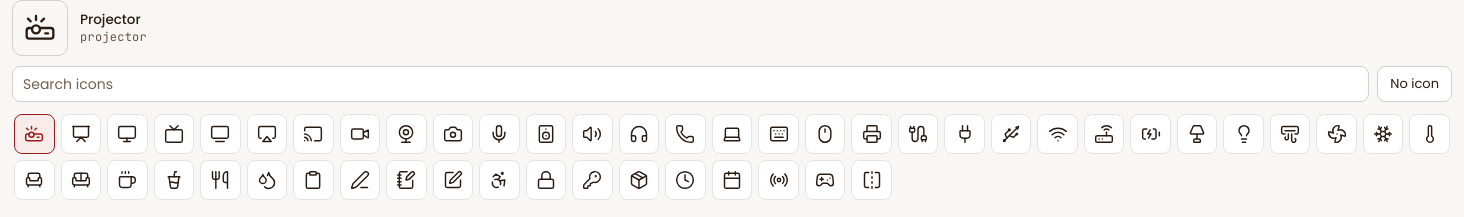
IconPicker › says when no icon matches the search, and keeps the choice
The width and height of the screenshot is (1464, 217).
Type "zzz" into the search field with placeholder "Search icons" at (691, 84), box [12,66,1369,102]
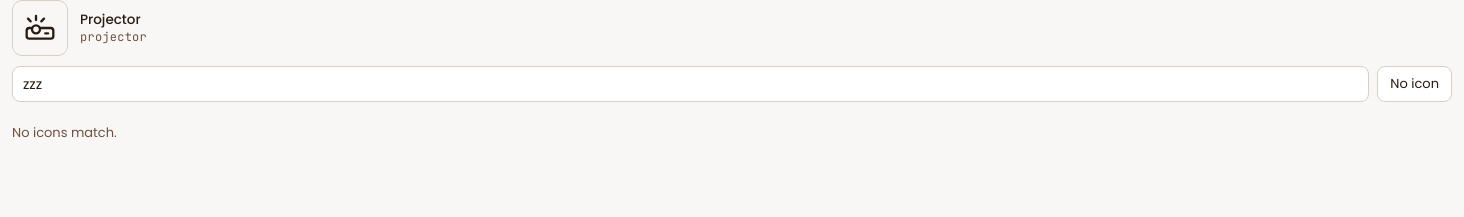
expect the element showing "Projector projector" is shown: met, box [12,0,147,56]
expect the text "No icons match." is shown: met, box [12,123,117,142]
